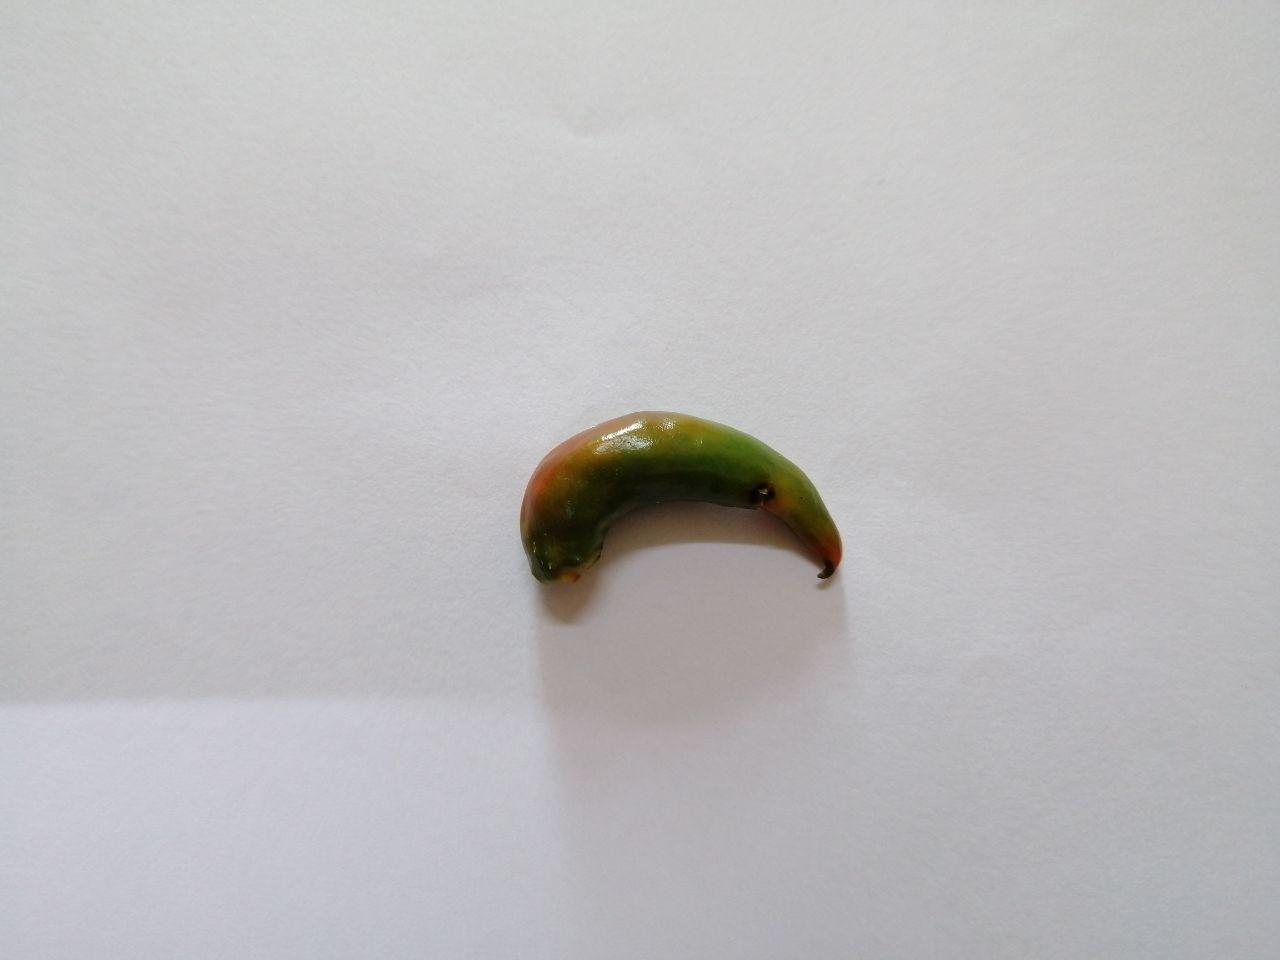lada kuning: (494, 380, 872, 621)
